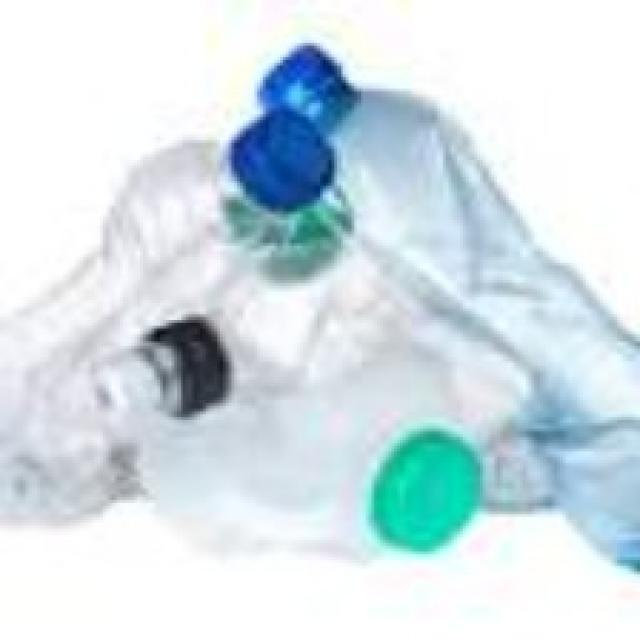heap: (1, 68, 640, 599)
plastic_bottle: (143, 400, 494, 590), (115, 270, 454, 416), (516, 226, 640, 575), (104, 100, 336, 261)
